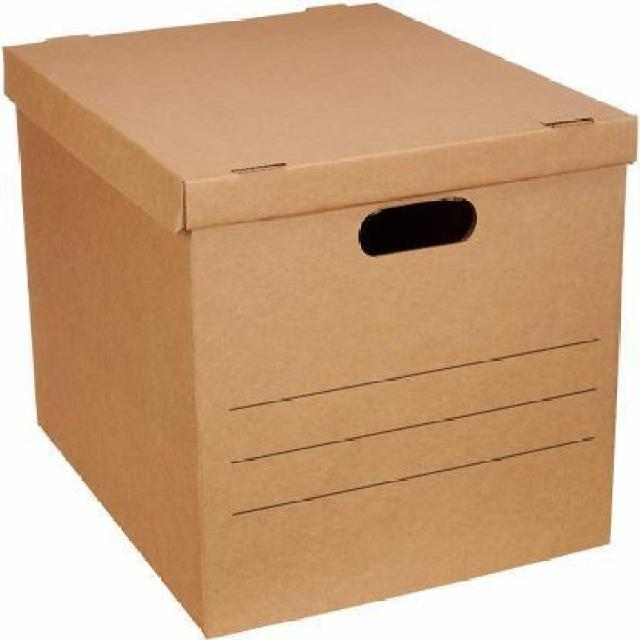box: (6, 3, 640, 637)
